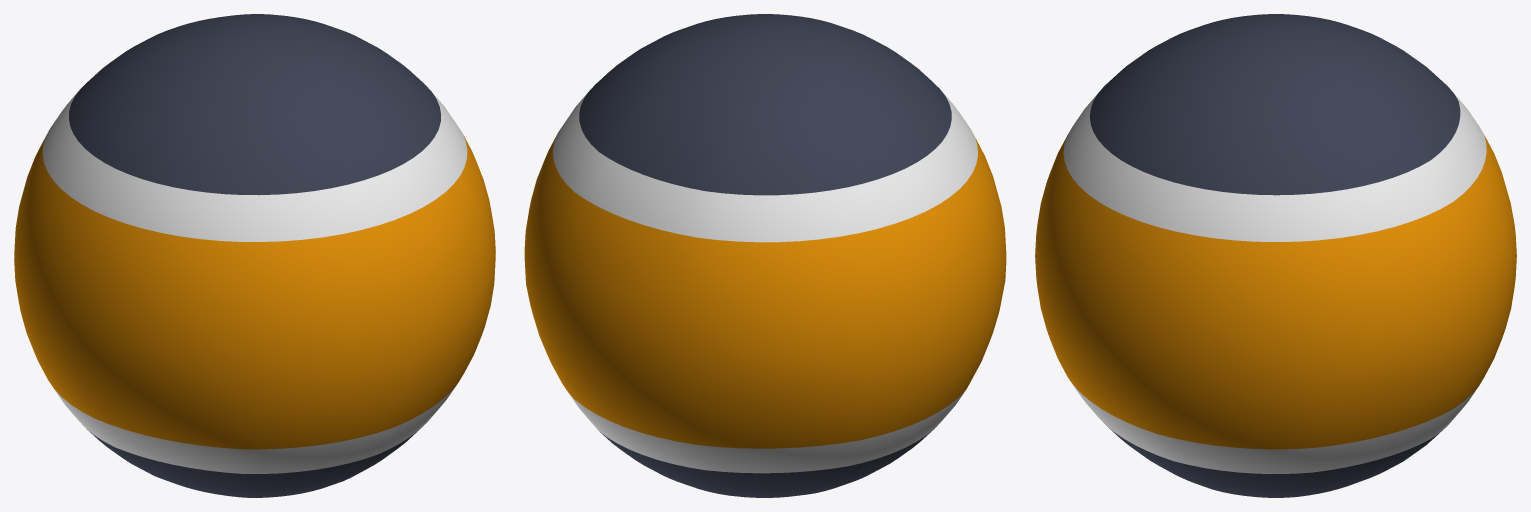
Rendered from ball6.fbx.
The picture shows the model from 3 angles, left to right: view 1: azimuth 30°, elevation 25°; view 2: azimuth 150°, elevation 25°; view 3: azimuth 270°, elevation 25°; orthographic projection.
Visible parts, largest first — view 1: ball6; view 2: ball6; view 3: ball6.
Boxes of the visible parts, <box> form: ball6: <box>14,14,495,497</box>; ball6: <box>524,14,1006,497</box>; ball6: <box>1035,14,1516,497</box>.
Size of the model in its own units: 0.6477 by 0.6545 by 0.6477.
